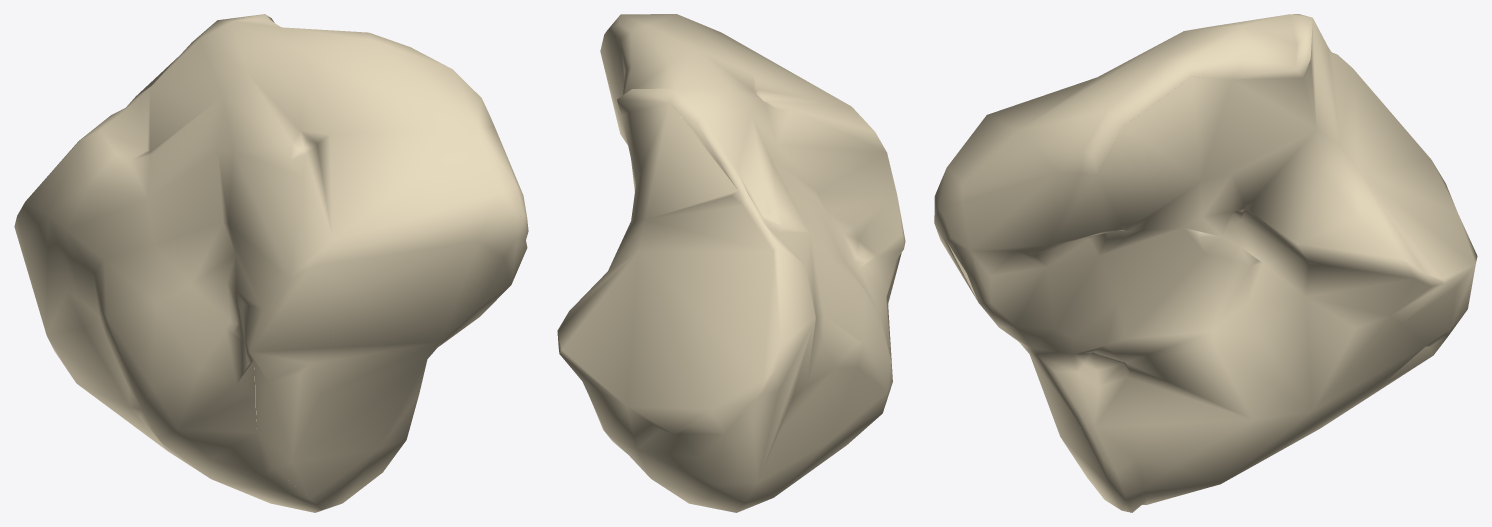
The model's file is esqueleto-medial-cuneiform-bone-l.glb.
The picture shows the model from 3 angles, left to right: view 1: azimuth 30°, elevation 25°; view 2: azimuth 150°, elevation 25°; view 3: azimuth 270°, elevation 25°; orthographic projection. The views are drawn at different scales.
Parts seen in each view (by area): view 1: Medial cuneiform bone.l; view 2: Medial cuneiform bone.l; view 3: Medial cuneiform bone.l.
Part boxes in pixels (<box>): Medial cuneiform bone.l: <box>14,14,528,512</box>; Medial cuneiform bone.l: <box>557,14,905,512</box>; Medial cuneiform bone.l: <box>934,14,1477,512</box>.
Bounding box in the file's own units: 0.0251 × 0.0323 × 0.033.
